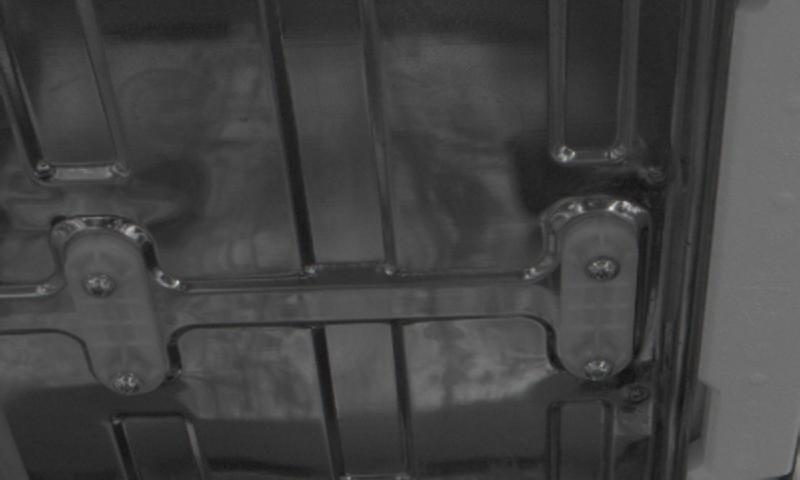vida-ok: (580, 248, 623, 293), (81, 266, 121, 311), (107, 363, 150, 403), (583, 353, 623, 392)
